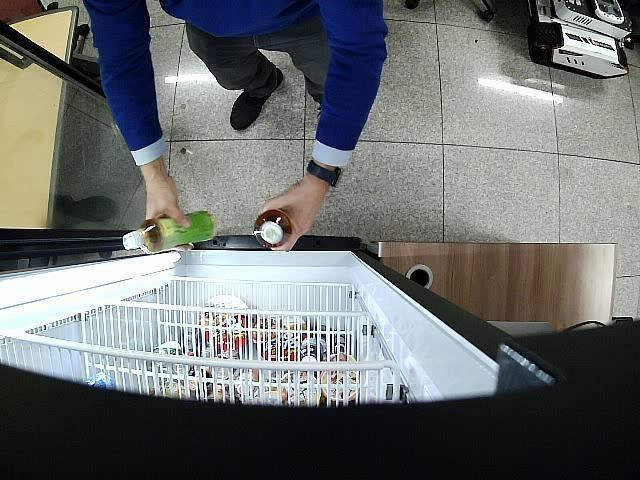19_17cha: (122, 210, 215, 253), (254, 210, 292, 248)
